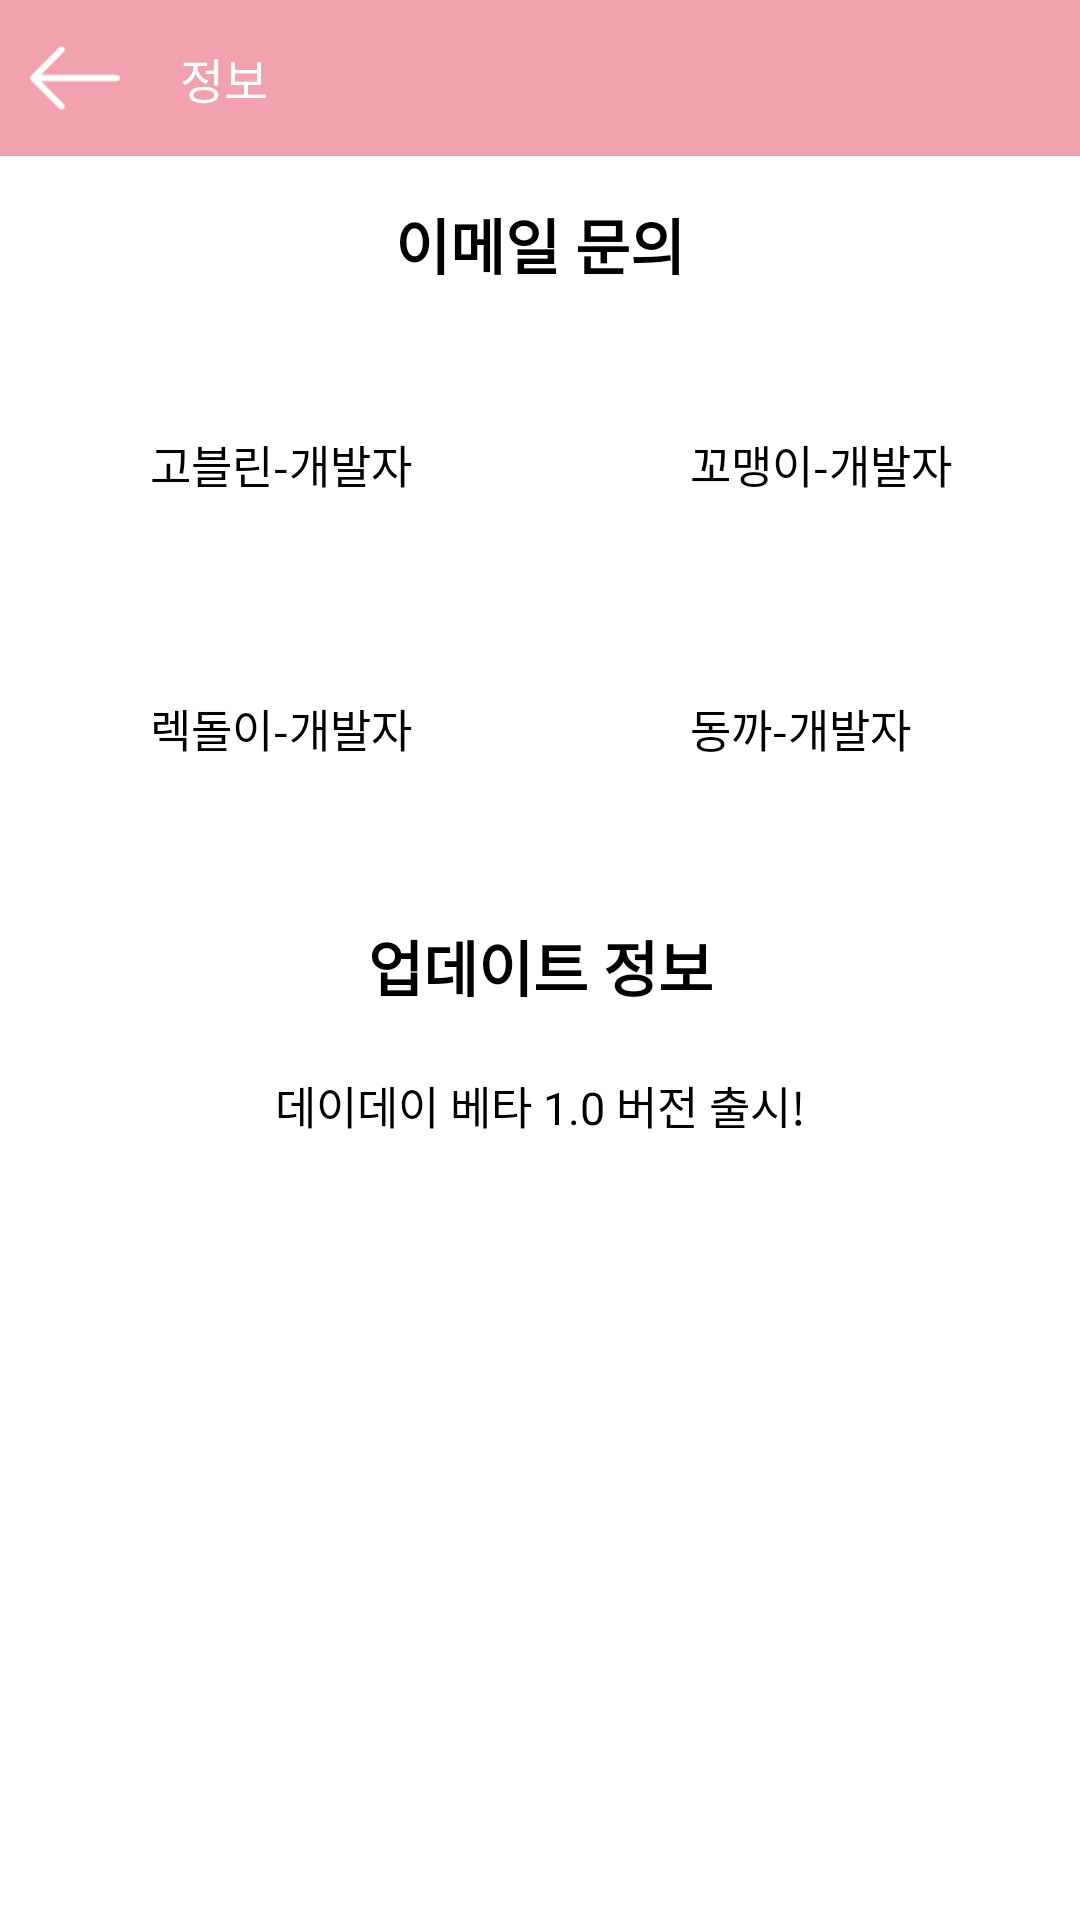

Screen size 1080*1920. Icon name, then its center in pixels as [x,y]:
arrow: [75,78]
